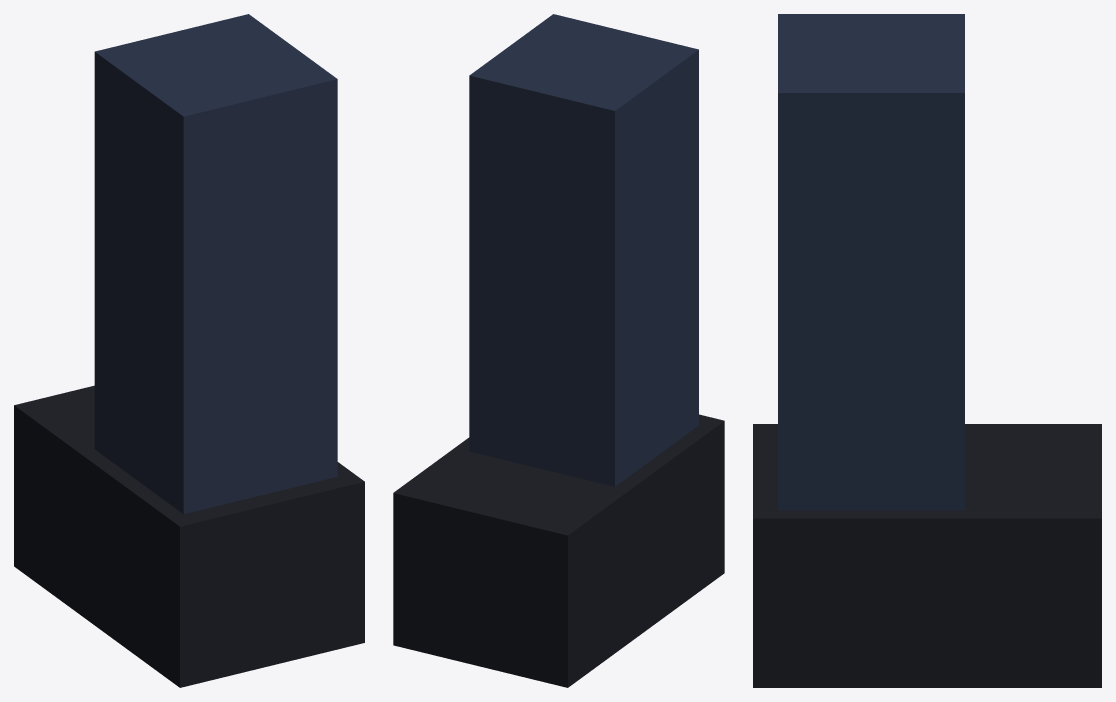
Rendered from MiiLeg.obj.
3 renders of one model, left to right at view 1: azimuth 30°, elevation 25°; view 2: azimuth 150°, elevation 25°; view 3: azimuth 270°, elevation 25°, orthographic. The views are drawn at different scales.
Parts seen in each view (by area): view 1: pants, shoes; view 2: pants, shoes; view 3: pants, shoes.
Part boxes in pixels (left/top/right/bottom): pants: left=94, top=14, right=337, bottom=514; shoes: left=14, top=385, right=364, bottom=687; pants: left=469, top=14, right=698, bottom=486; shoes: left=393, top=414, right=724, bottom=687; pants: left=778, top=14, right=964, bottom=510; shoes: left=753, top=424, right=1101, bottom=687.
Size of the model in its own units: 0.18 by 0.52 by 0.28.
